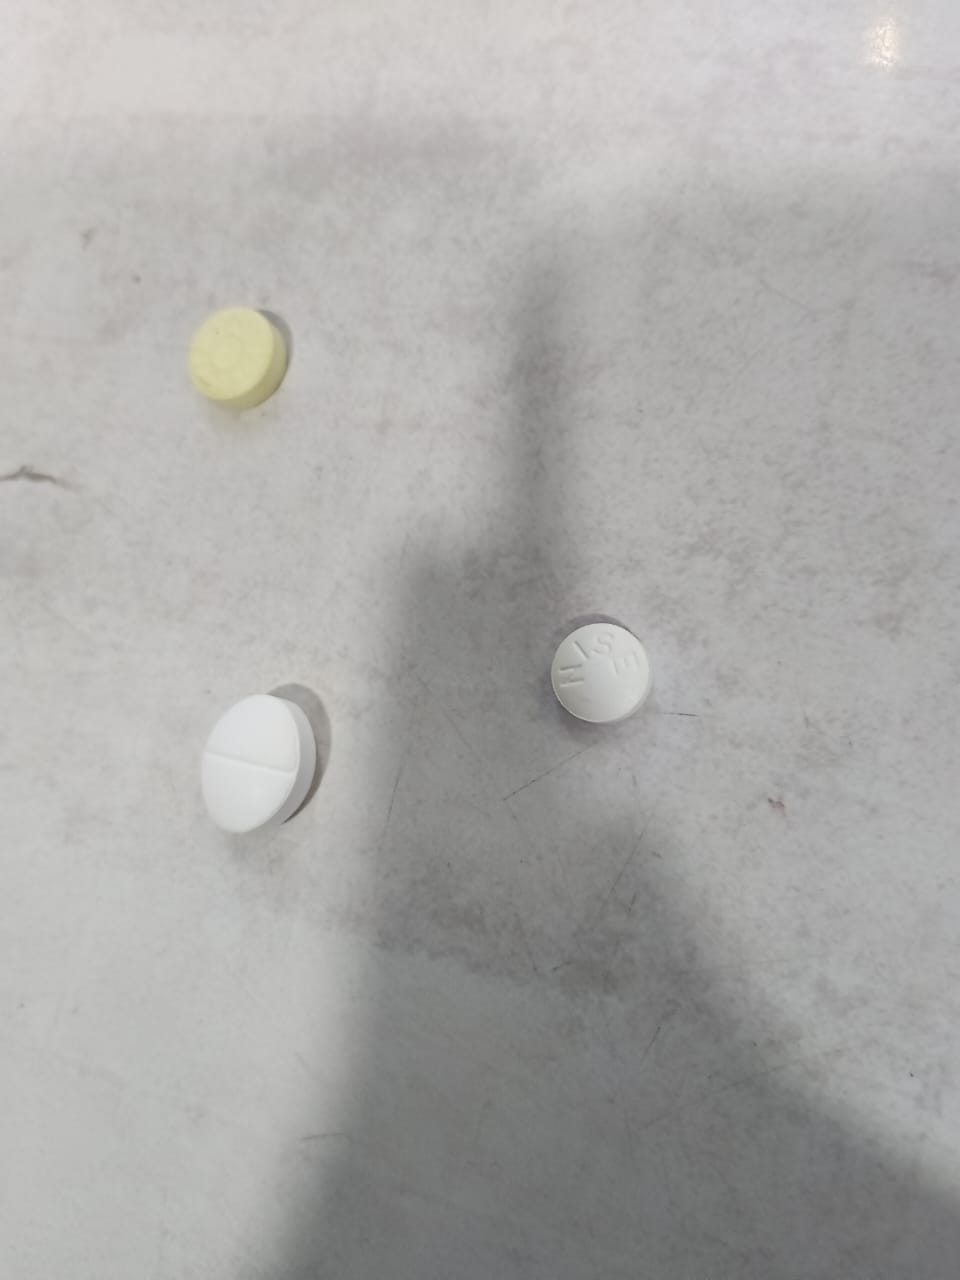Dolo 650: (196, 701, 316, 836)
Meftal SPAS: (155, 280, 315, 422)
Nise: (514, 587, 689, 757)
